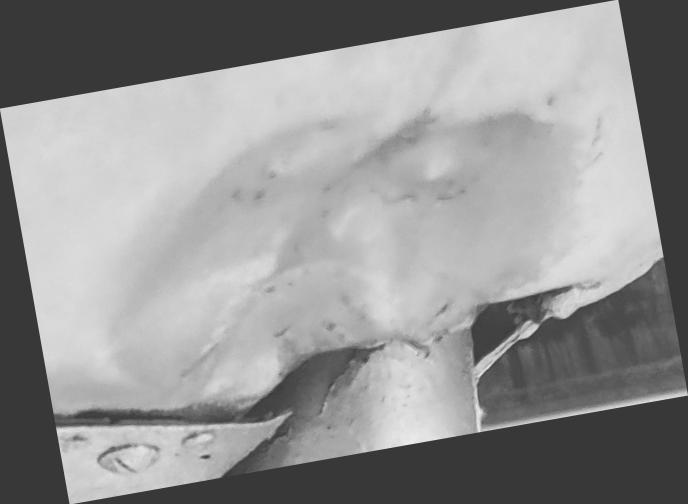dent: (1, 0, 688, 504)
